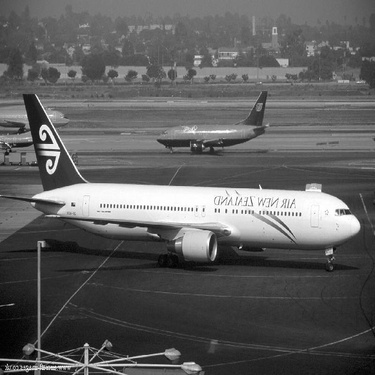airplane: (19, 83, 365, 274), (153, 87, 273, 153), (1, 87, 71, 132)
